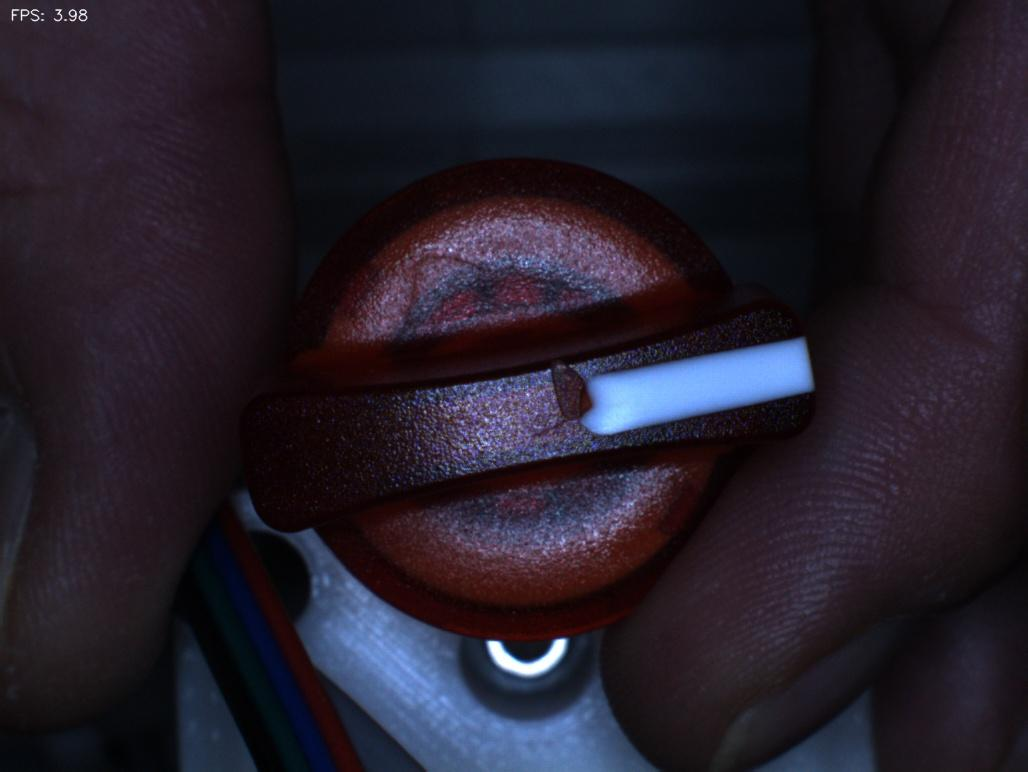Choc: (528, 344, 620, 439)
